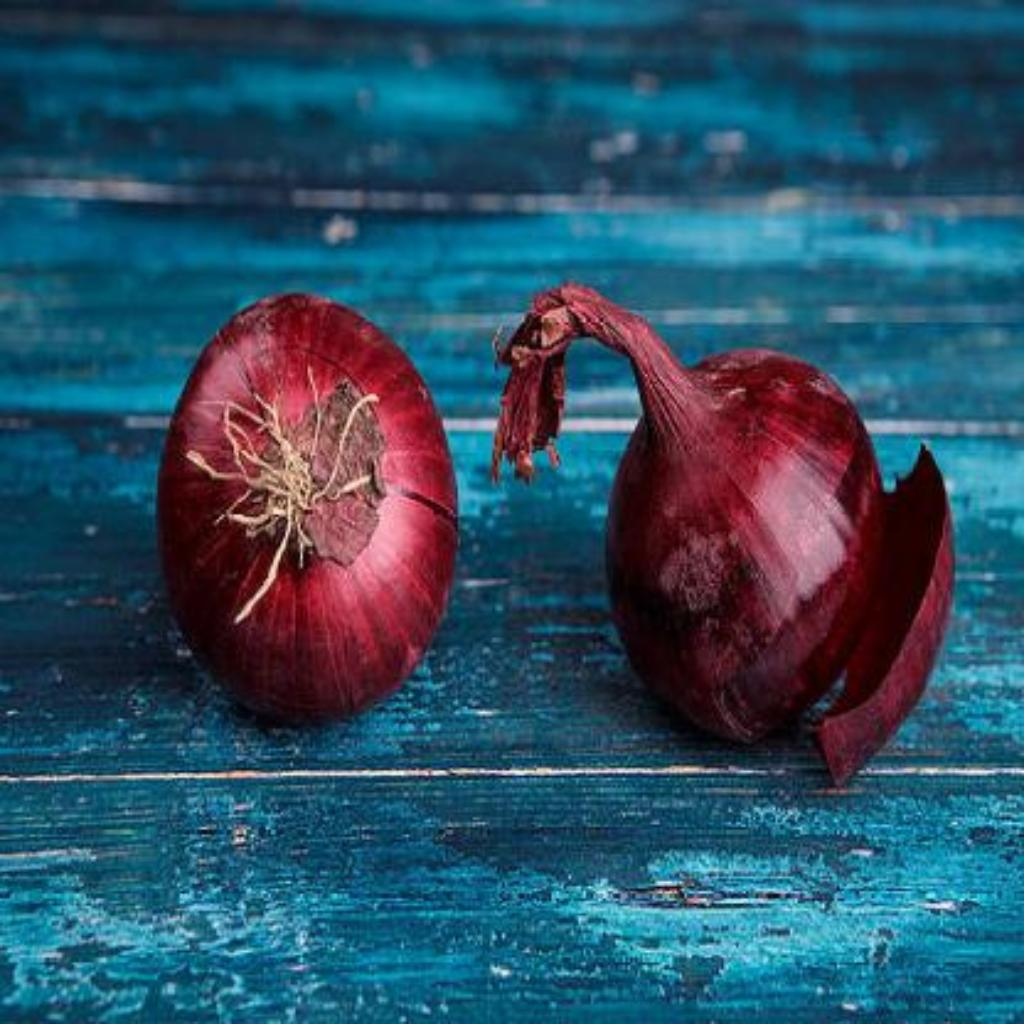Onion: (495, 283, 955, 786), (158, 295, 458, 725)
